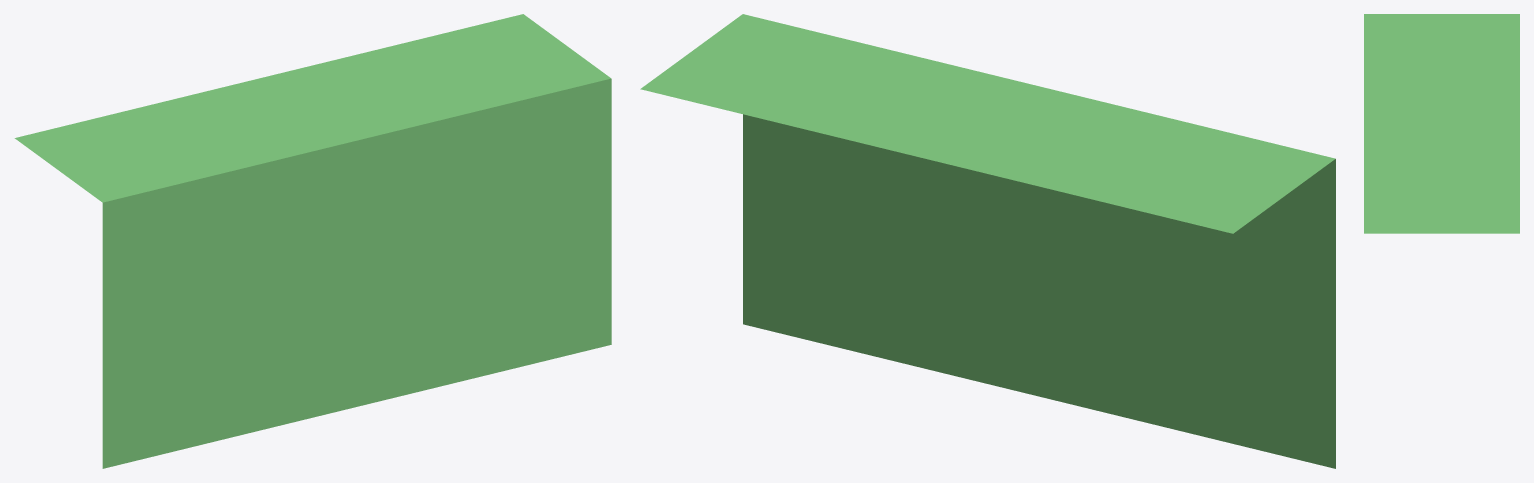
The model's file is Bld3_Base_Mid_Half.fbx.
3 renders of one model, left to right at view 1: azimuth 30°, elevation 25°; view 2: azimuth 150°, elevation 25°; view 3: azimuth 270°, elevation 25°, orthographic. The views are drawn at different scales.
Visible parts, largest first — view 1: Bld3_Base_Mid_Half; view 2: Bld3_Base_Mid_Half; view 3: Bld3_Base_Mid_Half.
Part boxes in pixels (x1,y1,x2,y2): Bld3_Base_Mid_Half: [14, 14, 611, 468]; Bld3_Base_Mid_Half: [640, 14, 1335, 468]; Bld3_Base_Mid_Half: [1364, 14, 1519, 233].
Size of the model in its own units: 300 by 150 by 90.
